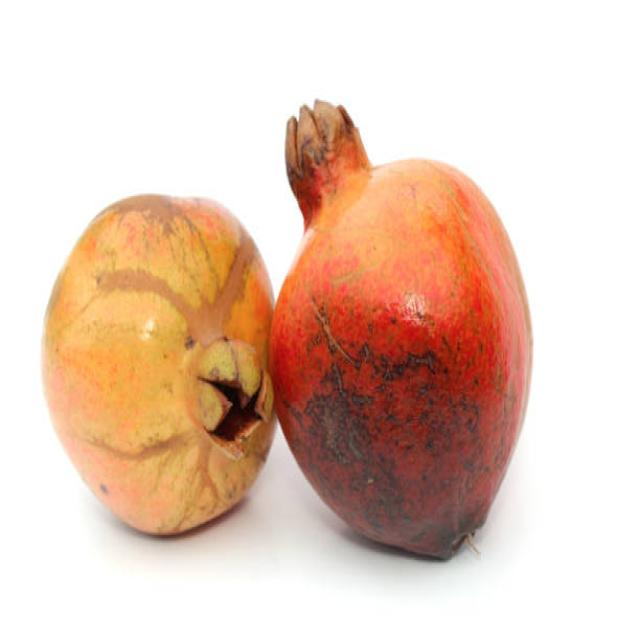overripe: (268, 98, 534, 566), (34, 188, 279, 539)
